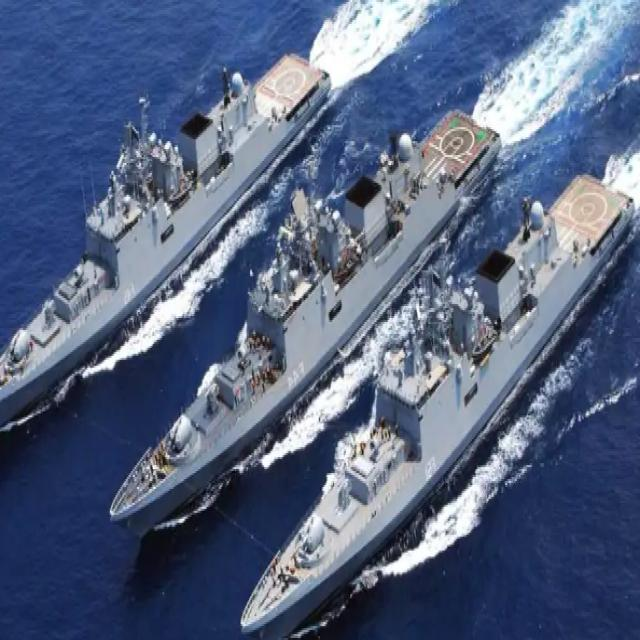navalvessels: (242, 147, 632, 640), (109, 101, 502, 545), (0, 30, 332, 437)
